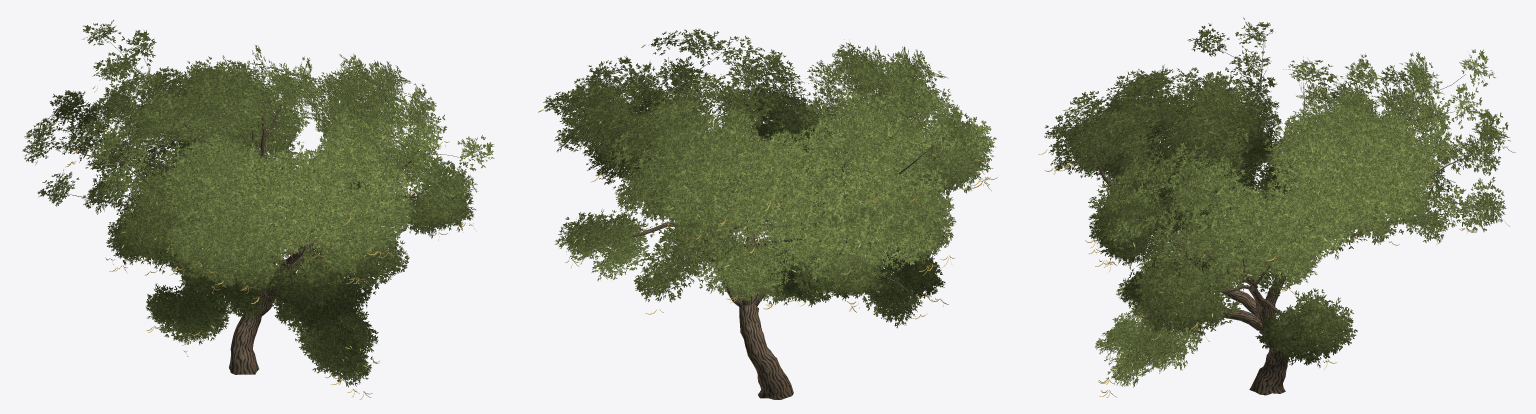
The model's file is adult-b.lod0.glb.
The picture shows the model from 3 angles, left to right: view 1: azimuth 30°, elevation 25°; view 2: azimuth 150°, elevation 25°; view 3: azimuth 270°, elevation 25°; orthographic projection. The views are drawn at different scales.
Parts seen in each view (by area): view 1: foliage, bark, fruit; view 2: foliage, bark, fruit; view 3: foliage, bark, fruit.
Part boxes in pixels (<box>): foliage: <box>22,20,494,387</box>; bark: <box>53,41,463,374</box>; fruit: <box>24,86,476,399</box>; foliage: <box>543,29,996,328</box>; bark: <box>585,53,964,399</box>; fruit: <box>565,112,997,319</box>; foliage: <box>1044,17,1510,387</box>; bark: <box>1081,40,1483,395</box>; fruit: <box>1038,87,1515,397</box>.
Bounding box in the file's own units: 9.95 × 7.5 × 10.34.
5 materials, 2 textured.
